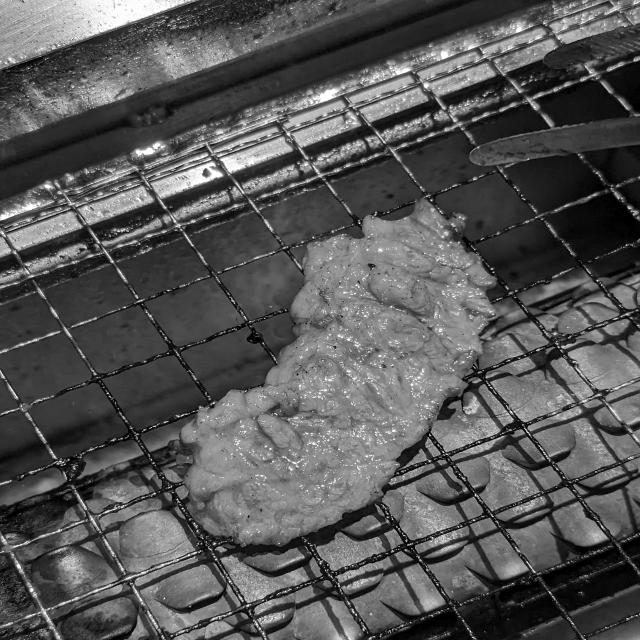OK undercooked beef,: (158, 184, 501, 558)
